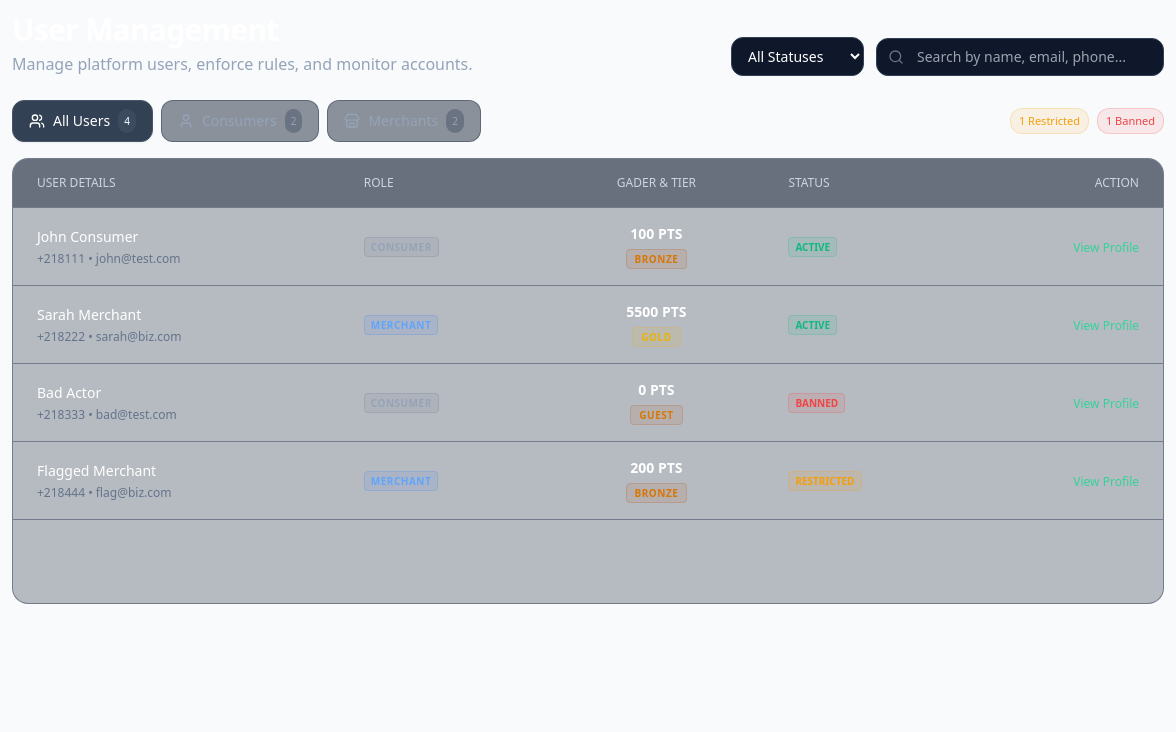
Test: Admin Users Page › filters by Merchants tab
The width and height of the screenshot is (1176, 732).
Click the button "Merchants 2" at (404, 121), box [327, 100, 481, 142]
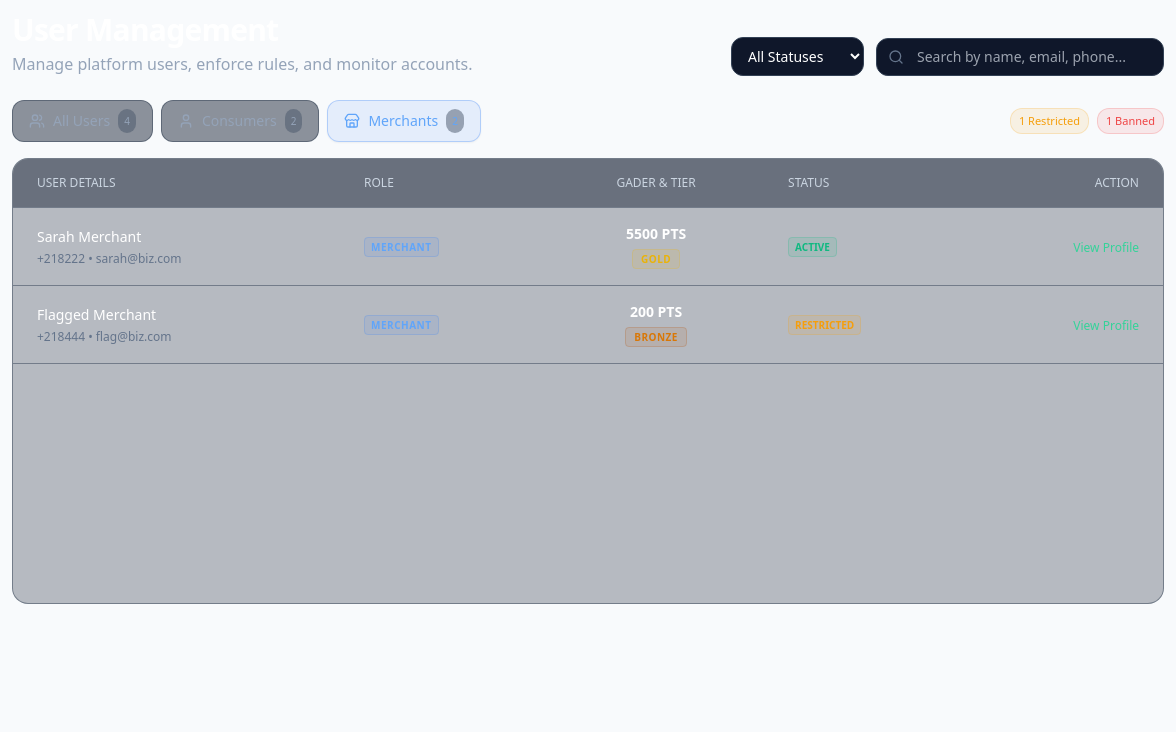
Check: the text "Sarah Merchant" is shown, box [37, 226, 141, 246]
Check: the text "John Consumer" is gone
Check: the text "Bad Actor" is gone
